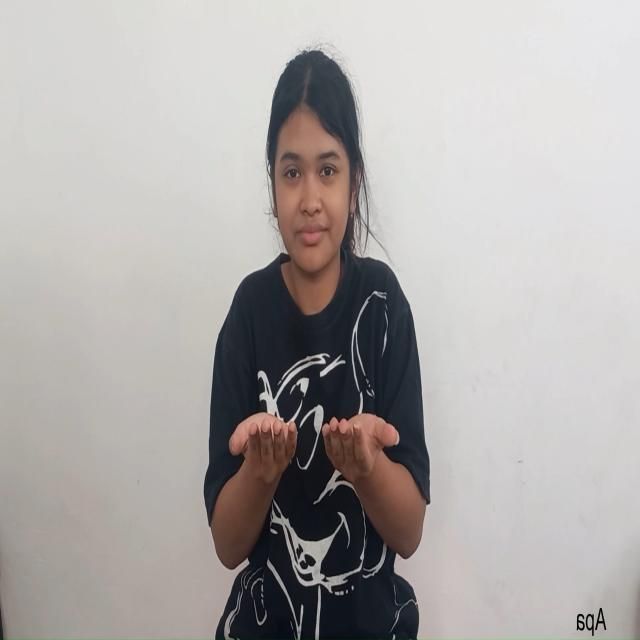Apa -BISINDO-: (208, 406, 430, 573)
